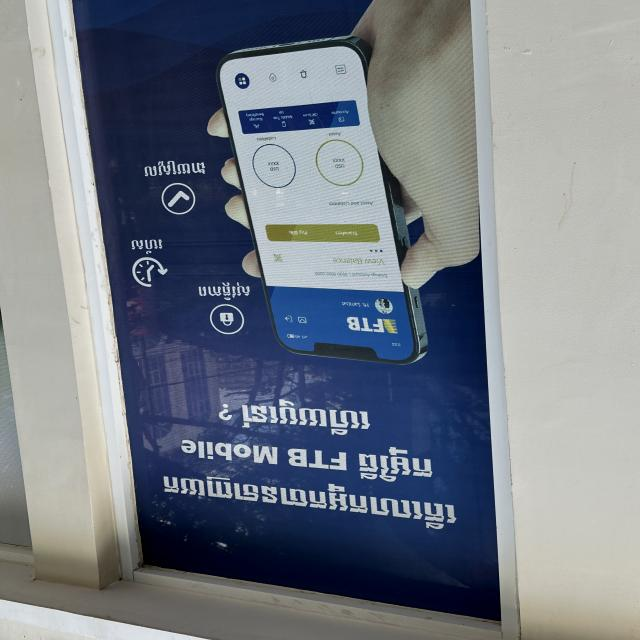Yolov11kh: (158, 467, 469, 535), (213, 393, 385, 438), (353, 439, 441, 489), (138, 152, 212, 184), (194, 281, 254, 300), (126, 234, 174, 255)
